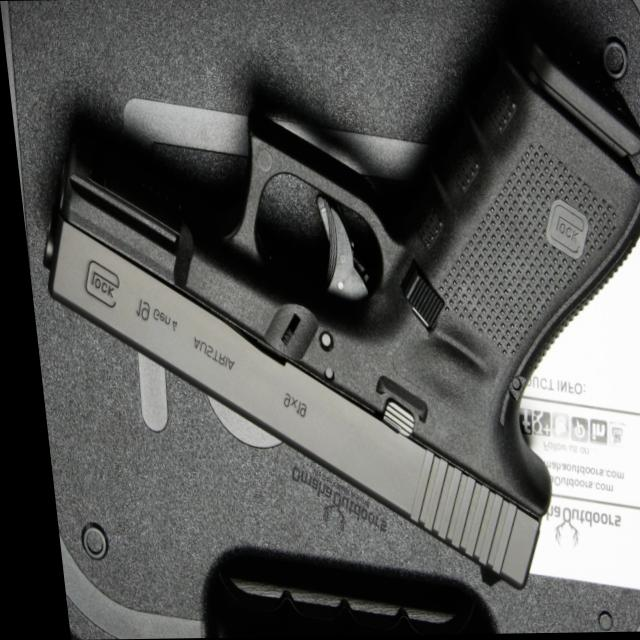handgun: (18, 51, 640, 616)
